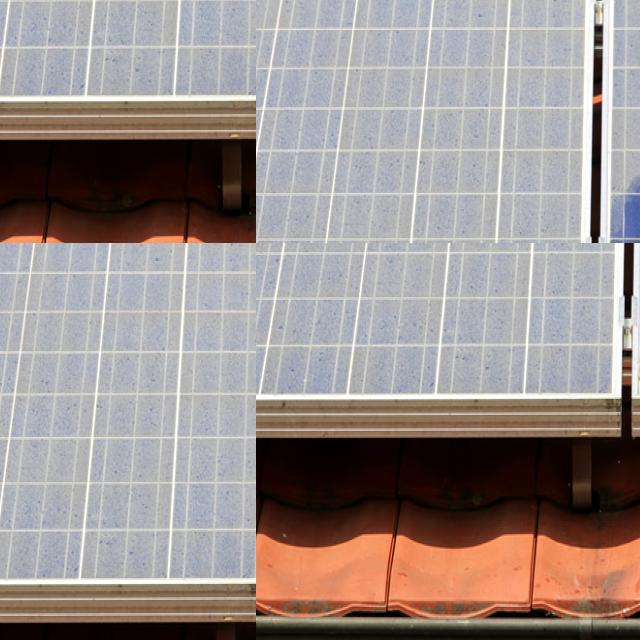bird: (190, 50, 250, 132), (32, 58, 82, 114), (52, 140, 87, 200), (20, 0, 59, 41), (0, 132, 20, 201), (157, 0, 204, 25), (0, 74, 20, 114), (175, 0, 203, 27), (147, 0, 174, 24), (0, 116, 12, 160), (61, 0, 79, 27), (34, 0, 52, 24), (0, 0, 17, 19)
dust: (256, 264, 449, 386), (256, 243, 472, 340), (461, 266, 598, 392), (484, 243, 608, 353)
panel: (19, 243, 36, 266), (0, 243, 18, 264), (0, 243, 16, 265)
